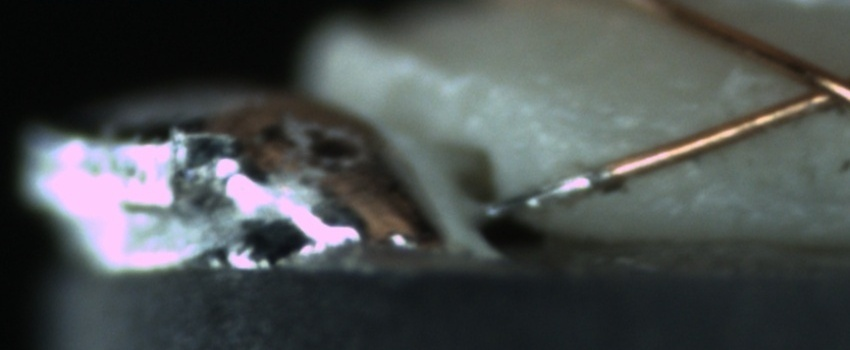CL: (771, 52, 849, 120)
TB: (551, 170, 595, 201)
TS: (484, 165, 609, 219)
TTCW: (480, 150, 649, 218)
